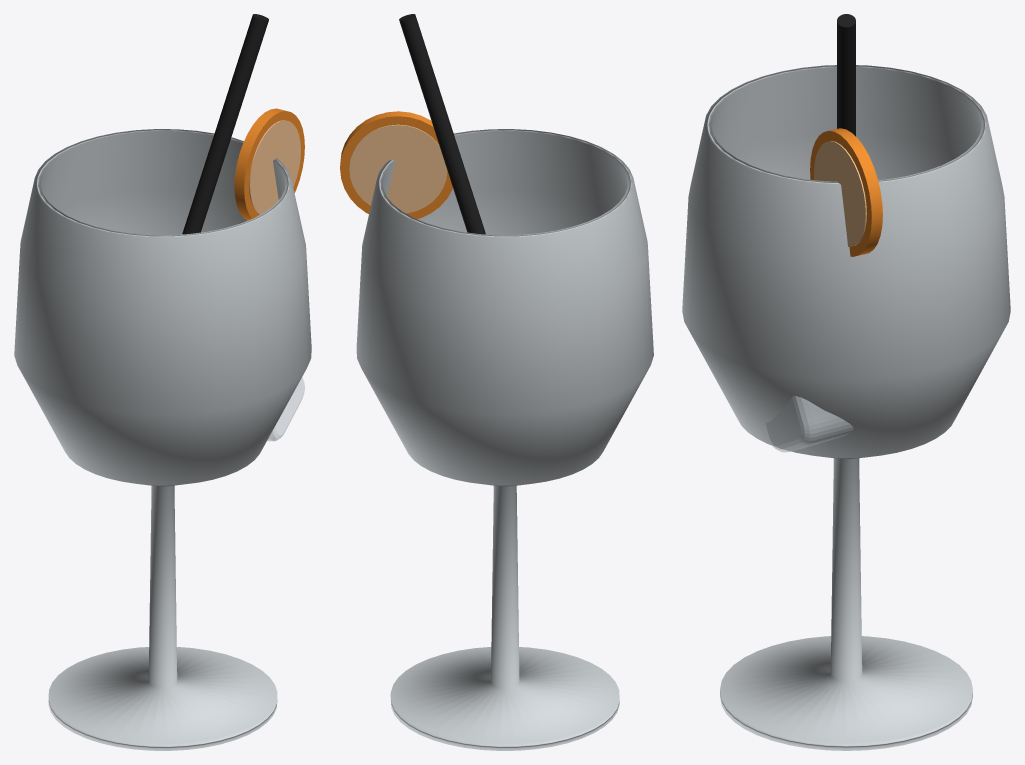
The model's file is cocktail-spritz.glb.
The picture shows the model from 3 angles, left to right: view 1: azimuth 30°, elevation 25°; view 2: azimuth 150°, elevation 25°; view 3: azimuth 270°, elevation 25°; orthographic projection. The views are drawn at different scales.
Size of the model in its own units: 0.1139 by 0.2558 by 0.104.
